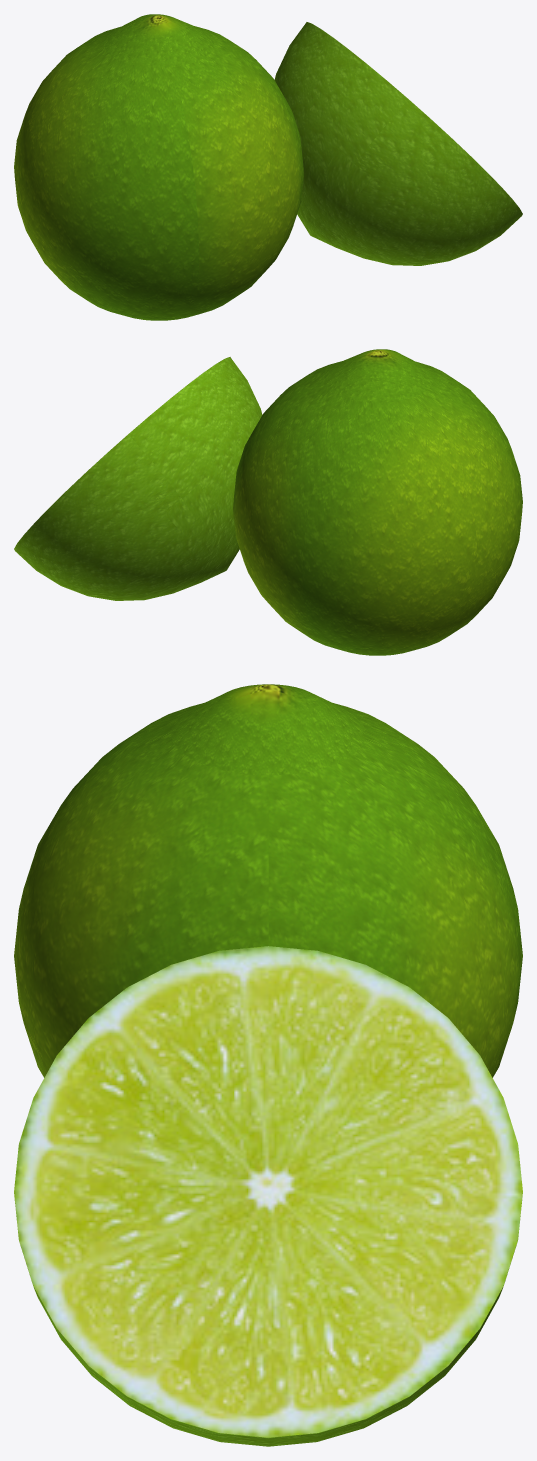
Rendered from Lime.FBX.
3 renders of one model, top to bottom at view 1: azimuth 30°, elevation 25°; view 2: azimuth 150°, elevation 25°; view 3: azimuth 270°, elevation 25°, orthographic. The views are drawn at different scales.
Parts seen in each view (by area): view 1: Lime, Lime Half; view 2: Lime, Lime Half; view 3: Object001, Lime, Lime Half.
Part boxes in pixels (<box>): Lime: <box>14,14,303,320</box>; Lime Half: <box>274,22,522,265</box>; Lime: <box>233,349,522,655</box>; Lime Half: <box>14,357,262,600</box>; Object001: <box>14,946,522,1437</box>; Lime: <box>14,684,522,1077</box>; Lime Half: <box>14,1200,522,1446</box>.
Size of the model in its own units: 35.05 by 21.66 by 19.09.
3 materials, 3 textured.
